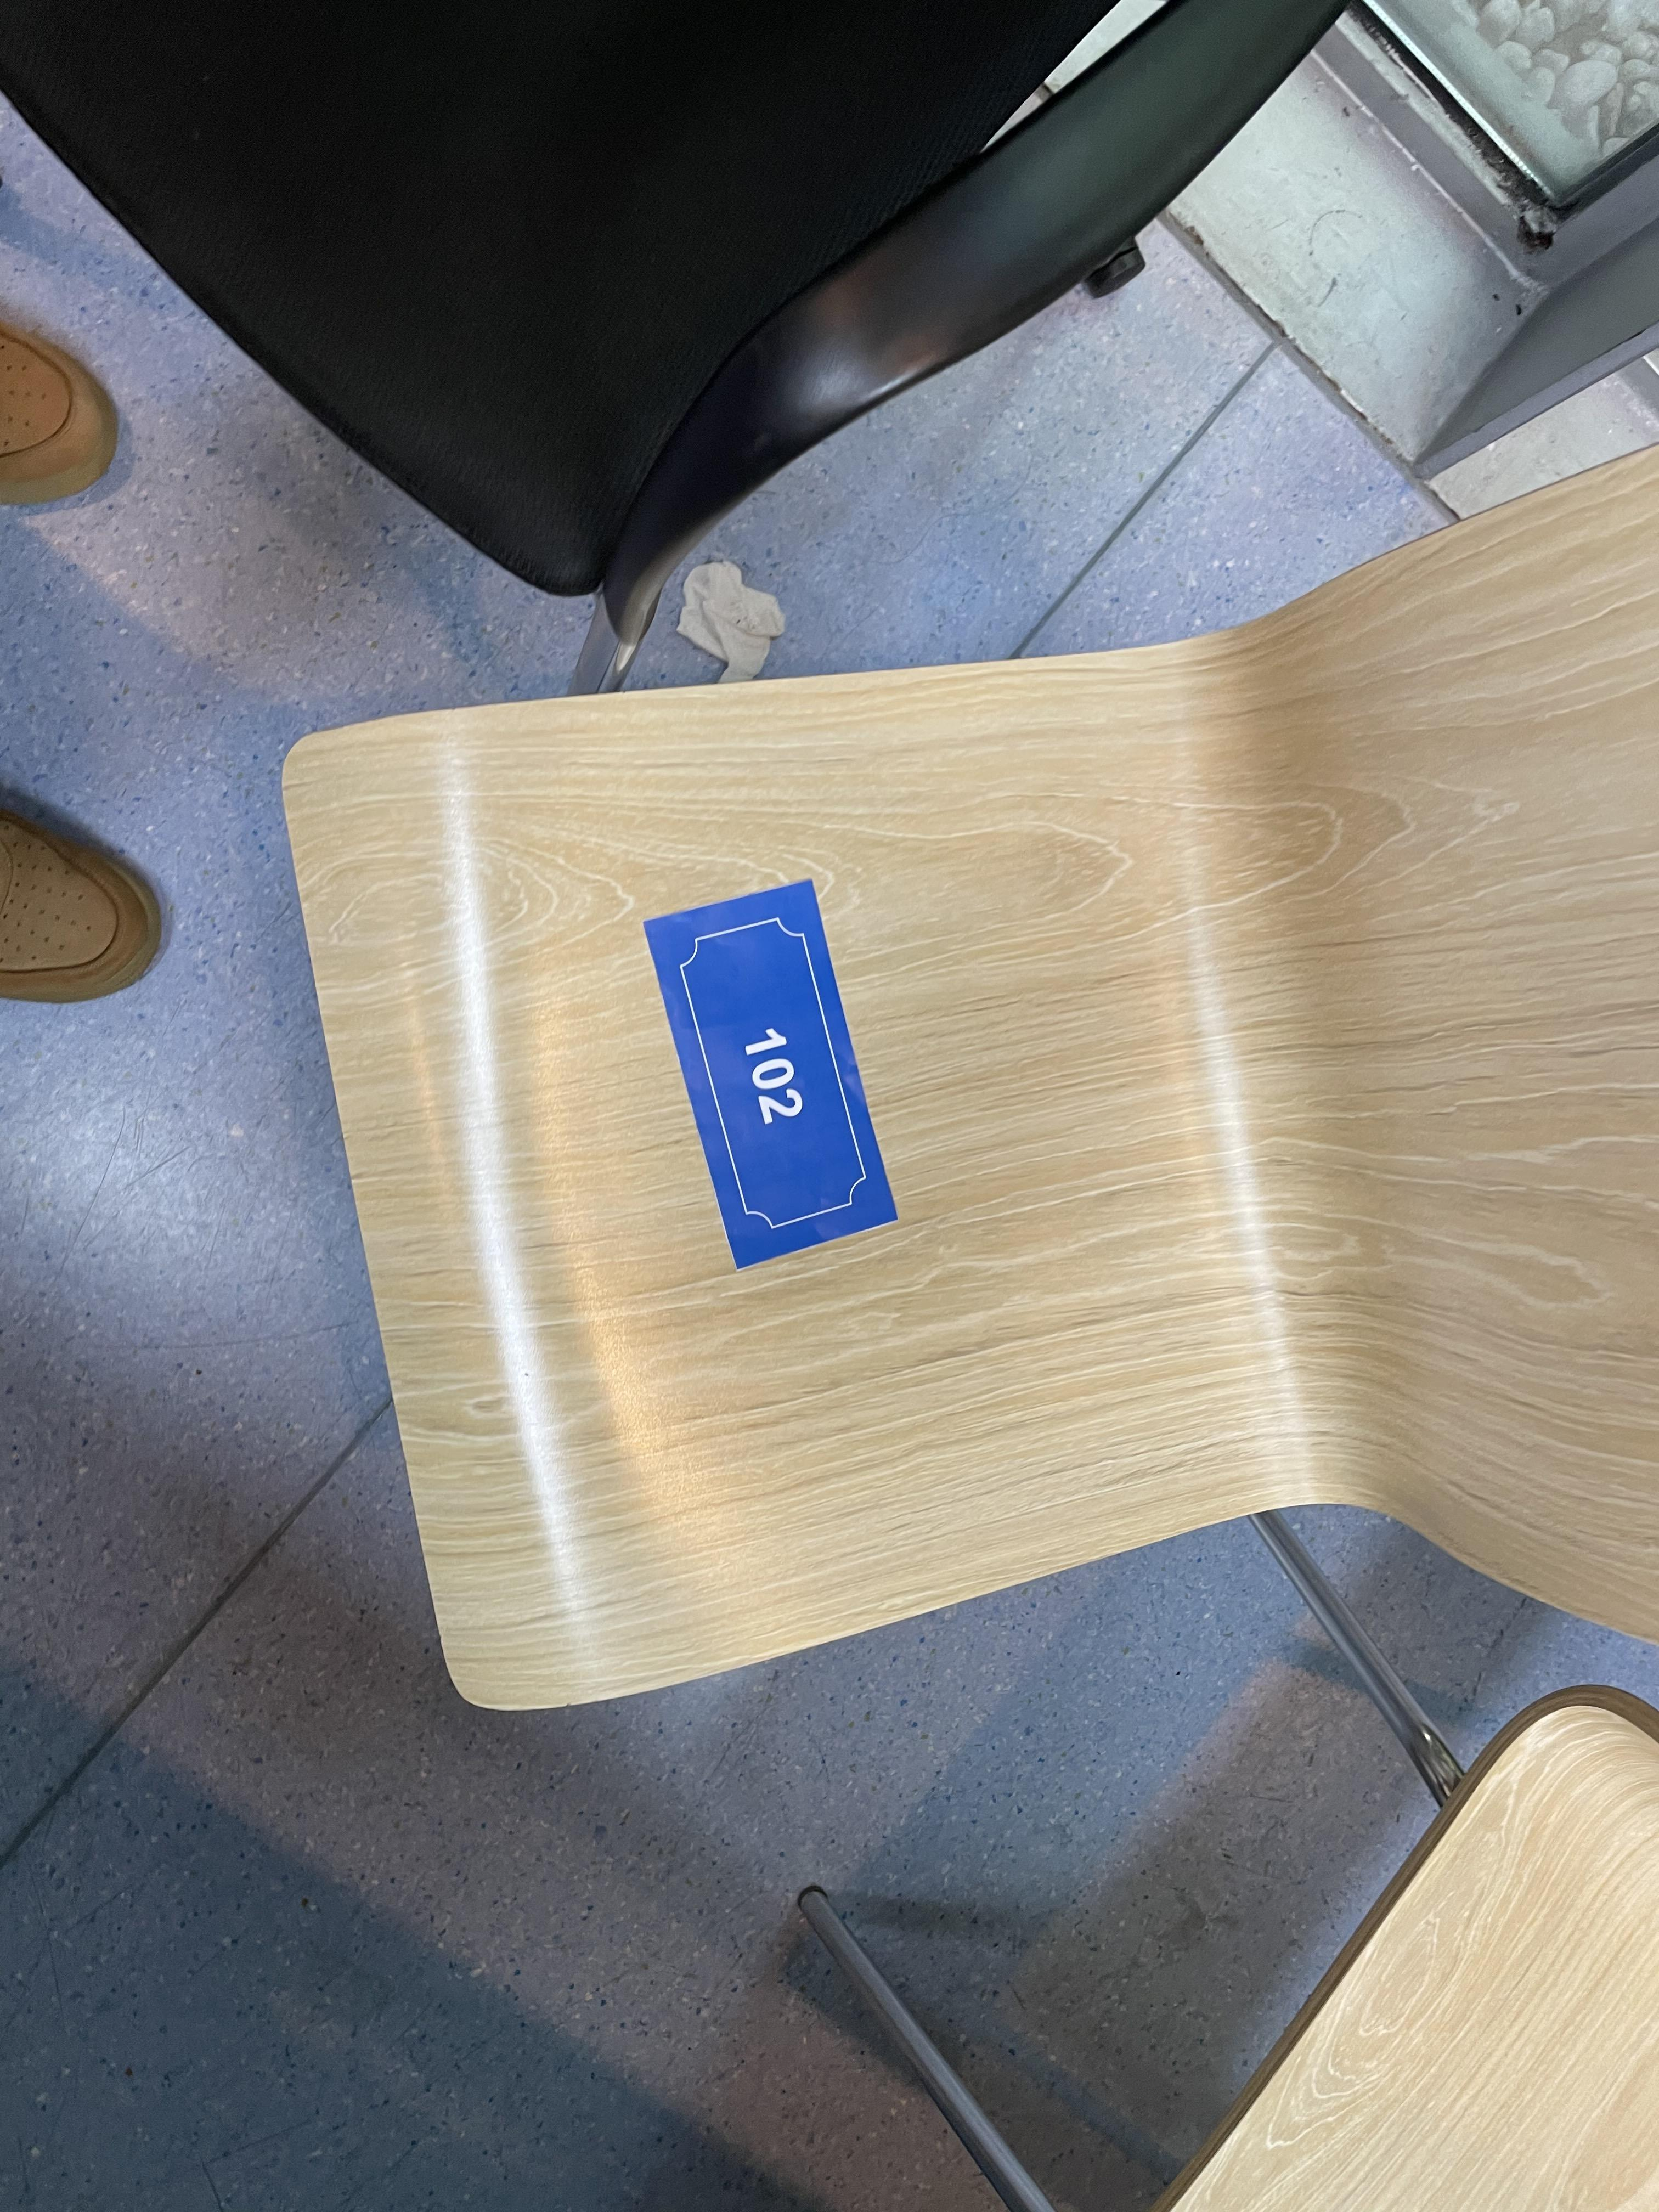Card: (627, 846, 906, 1350)
